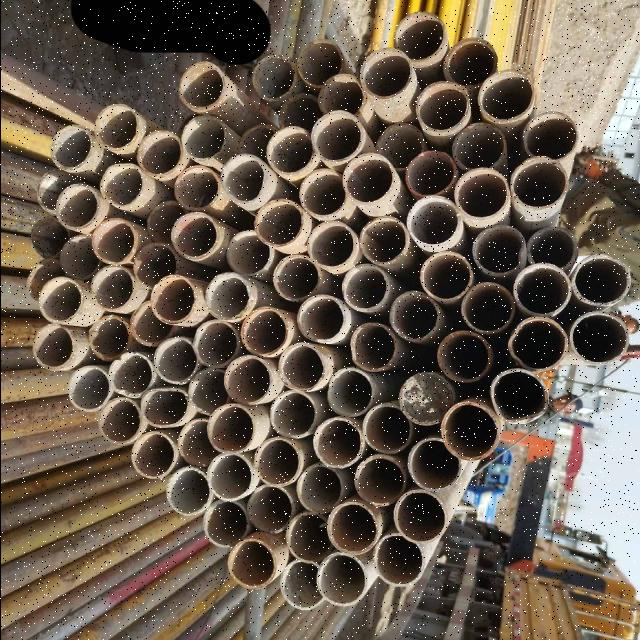pipe: (440, 402, 500, 464), (452, 165, 511, 228), (508, 155, 568, 215), (400, 372, 458, 430), (490, 369, 548, 425), (568, 314, 630, 366), (509, 318, 568, 372), (436, 330, 494, 384), (572, 255, 632, 307), (450, 123, 510, 175), (512, 264, 569, 318), (478, 69, 534, 123), (359, 47, 415, 101), (412, 80, 468, 134), (407, 198, 461, 254), (521, 110, 579, 162), (458, 282, 513, 336), (406, 439, 462, 492), (470, 224, 524, 278), (392, 491, 447, 544), (326, 502, 378, 558), (274, 340, 327, 394), (419, 252, 473, 304), (393, 12, 447, 64), (310, 111, 364, 163), (316, 553, 368, 607), (238, 304, 288, 360), (404, 150, 462, 198), (348, 321, 398, 376), (223, 353, 273, 408), (203, 270, 252, 326), (220, 153, 268, 210), (354, 456, 406, 508), (374, 534, 424, 588), (441, 38, 497, 86), (388, 290, 439, 342), (253, 199, 306, 249), (342, 154, 394, 204), (298, 170, 350, 220), (272, 254, 324, 304), (170, 210, 220, 262), (314, 418, 364, 470), (359, 215, 408, 268), (362, 406, 412, 456), (374, 121, 424, 171), (340, 264, 390, 314), (296, 292, 344, 344), (326, 367, 374, 419), (206, 403, 254, 455), (280, 558, 326, 612), (227, 540, 276, 590), (249, 55, 299, 103), (174, 165, 222, 215), (222, 229, 272, 277), (254, 436, 300, 488), (297, 38, 344, 88), (526, 227, 580, 270), (178, 62, 226, 110), (266, 128, 314, 176), (308, 222, 356, 270), (180, 114, 228, 162), (130, 300, 178, 348), (318, 74, 368, 120), (287, 512, 333, 562), (246, 486, 292, 536), (206, 452, 252, 502), (166, 466, 212, 516), (152, 336, 198, 386), (194, 317, 238, 369), (98, 162, 146, 208), (54, 182, 100, 230), (90, 218, 136, 266), (202, 501, 248, 549), (108, 351, 154, 399), (66, 366, 112, 414), (38, 276, 84, 324), (137, 128, 181, 178), (152, 276, 196, 326), (297, 466, 341, 516), (140, 388, 192, 430), (99, 396, 144, 444), (270, 392, 316, 438), (177, 420, 221, 468), (49, 124, 92, 172), (94, 105, 138, 151), (134, 243, 178, 289), (91, 266, 135, 312), (88, 316, 132, 362), (145, 200, 187, 248), (131, 432, 173, 479), (277, 94, 321, 138), (32, 325, 74, 371), (189, 370, 229, 416), (61, 234, 101, 280), (30, 213, 70, 259), (27, 259, 67, 303), (239, 125, 279, 167), (35, 170, 72, 213)
